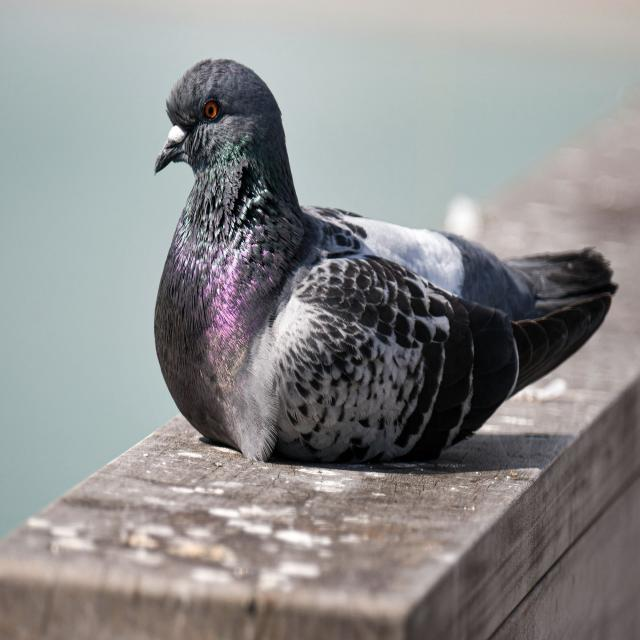pigeon: (155, 59, 617, 462)
